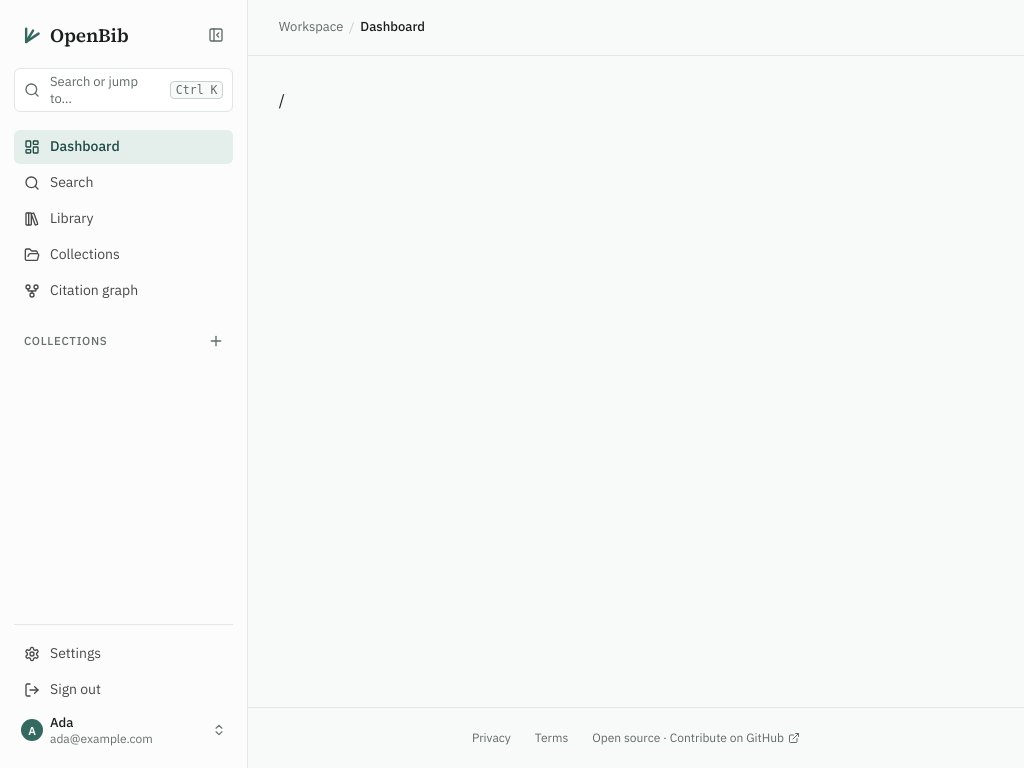
Test case: CommandPalette › opens a collection, offers recent searches and toggles the theme
Expected: the element named "Sidebar" is shown, 0,0 -> 248,767
Press k
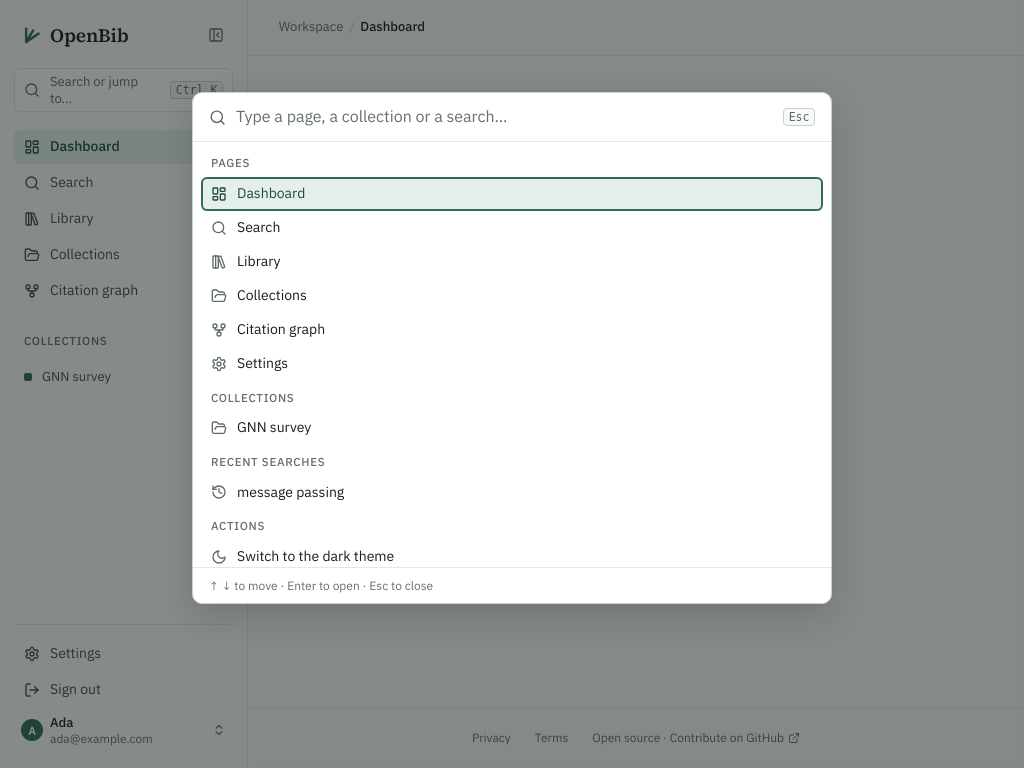
Result: the element "Recent searches" shows "message passing" at 237,483 -> 344,501
Click the option "Switch to the dark theme" at (303, 556), box 211,547 -> 394,565
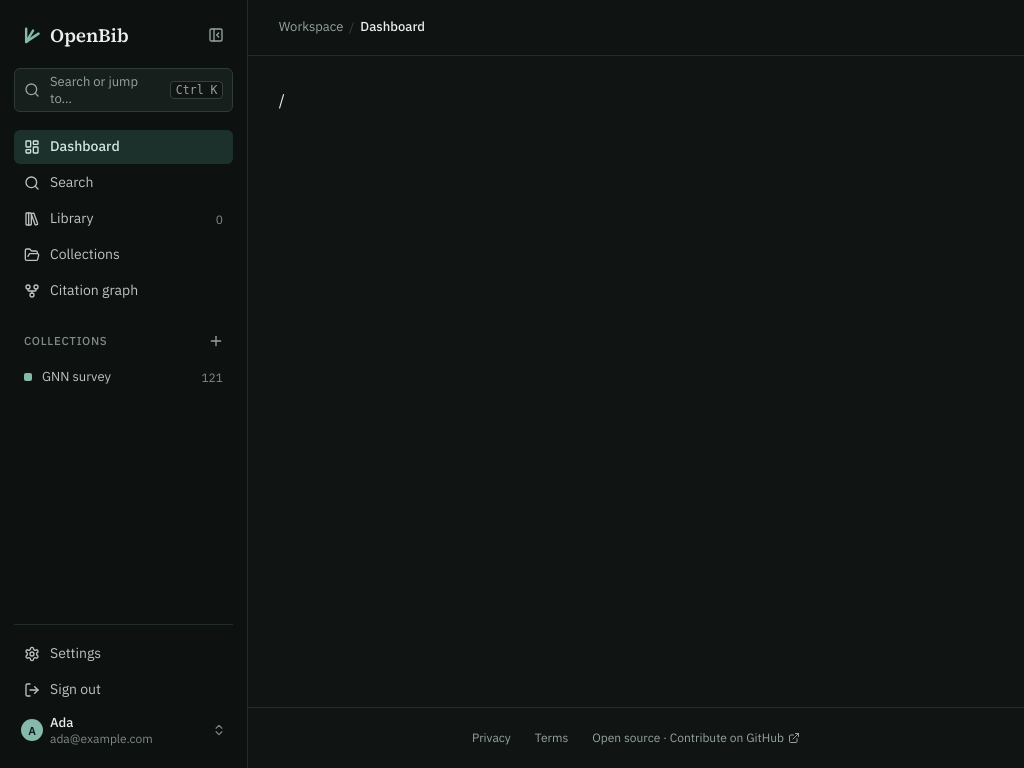
Press k
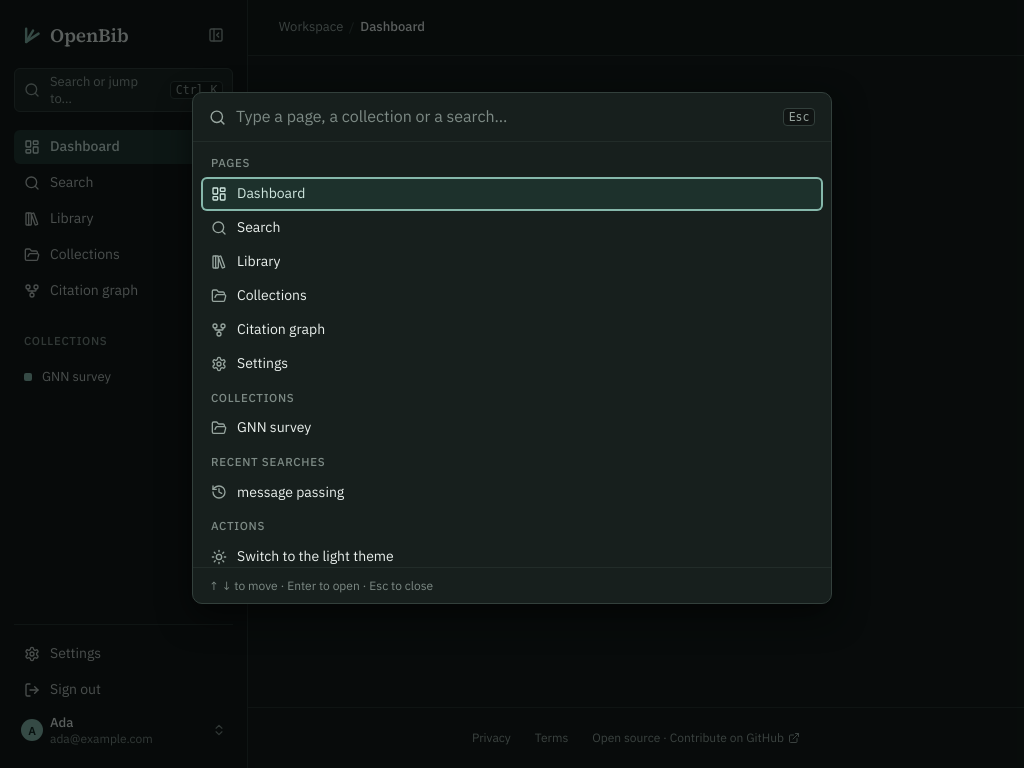
Type "gnn" into the dropdown at (504, 117), box 236,93 -> 773,141
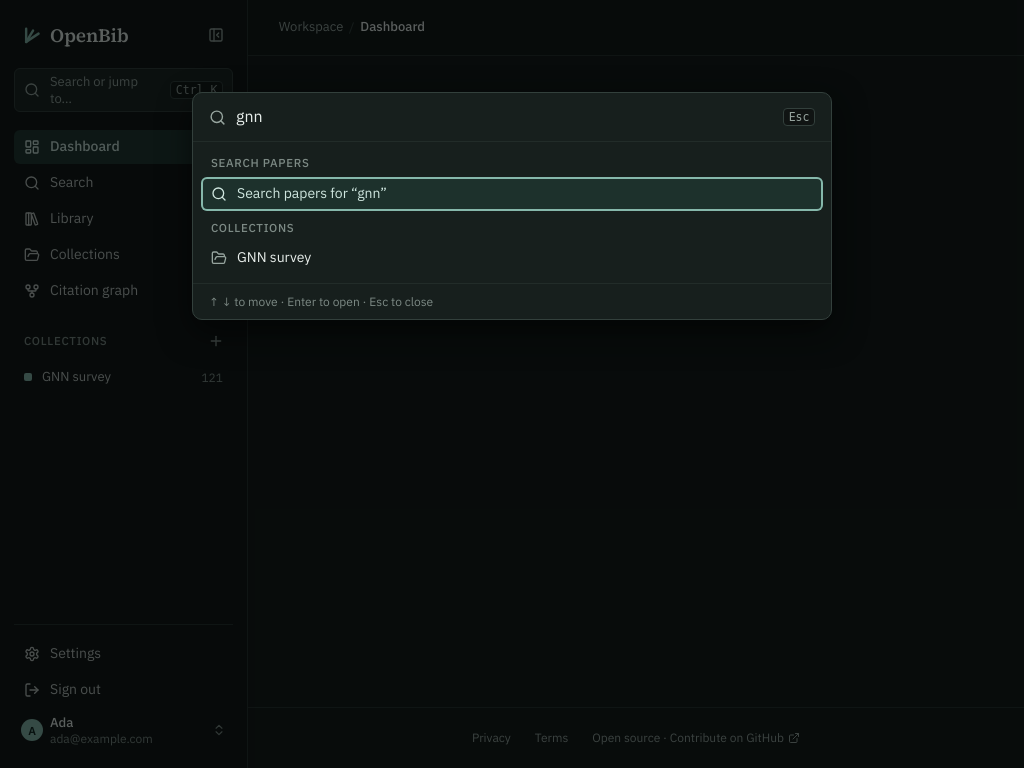
Click the option "GNN survey" at (261, 257), box 211,248 -> 311,266
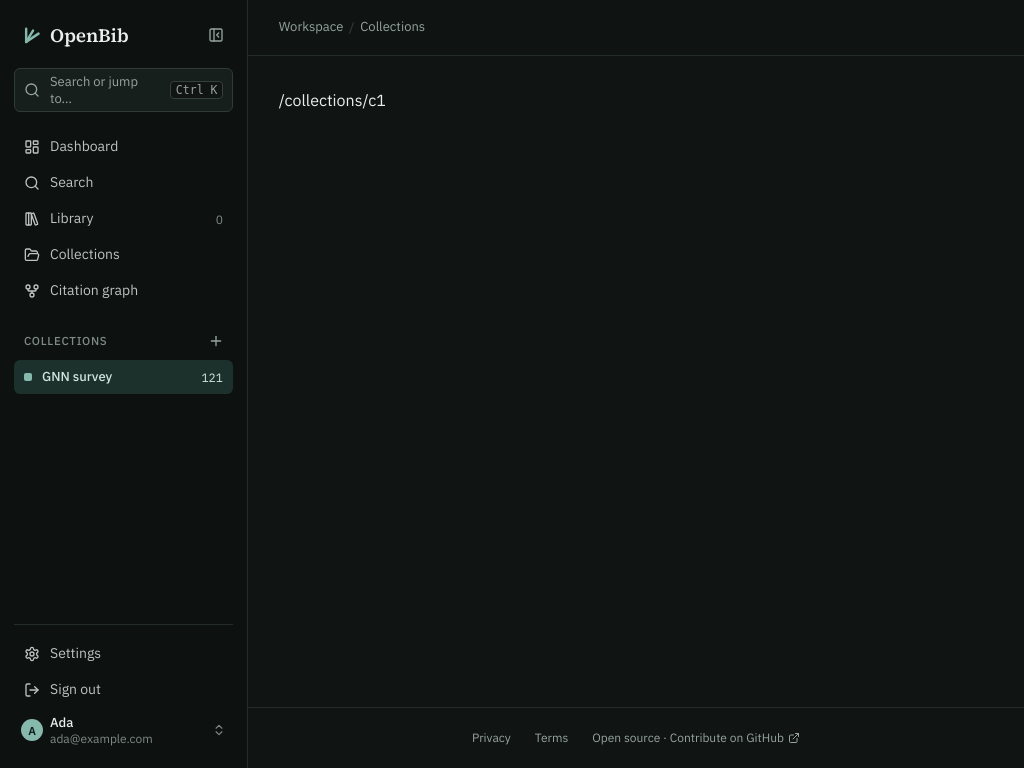
Result: the text with test id "where" reads "/collections/c1" at 279,90 -> 386,110
